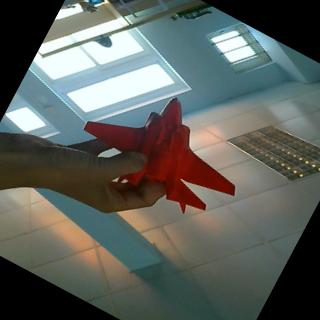Jet: (69, 63, 264, 230)
